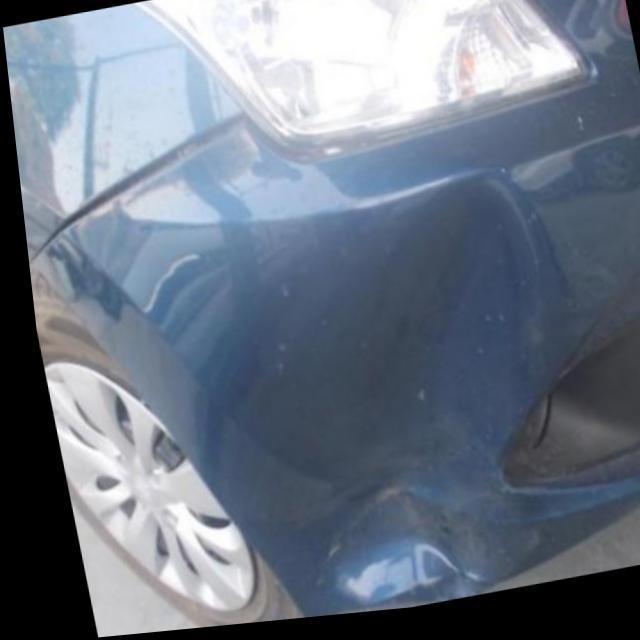dent: (249, 193, 531, 621)
